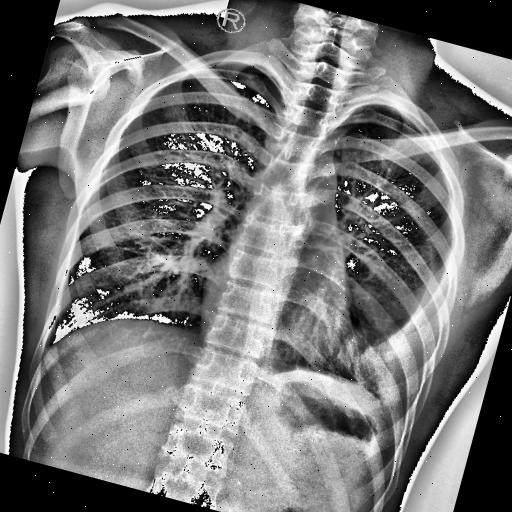10- Pleural effusion: (324, 230, 460, 440), (322, 239, 462, 441), (338, 250, 456, 419)
11- Pleural thickening: (324, 230, 460, 440)
12- Pneumothorax: (368, 107, 484, 251)
9- Other lesion: (368, 107, 484, 251)
